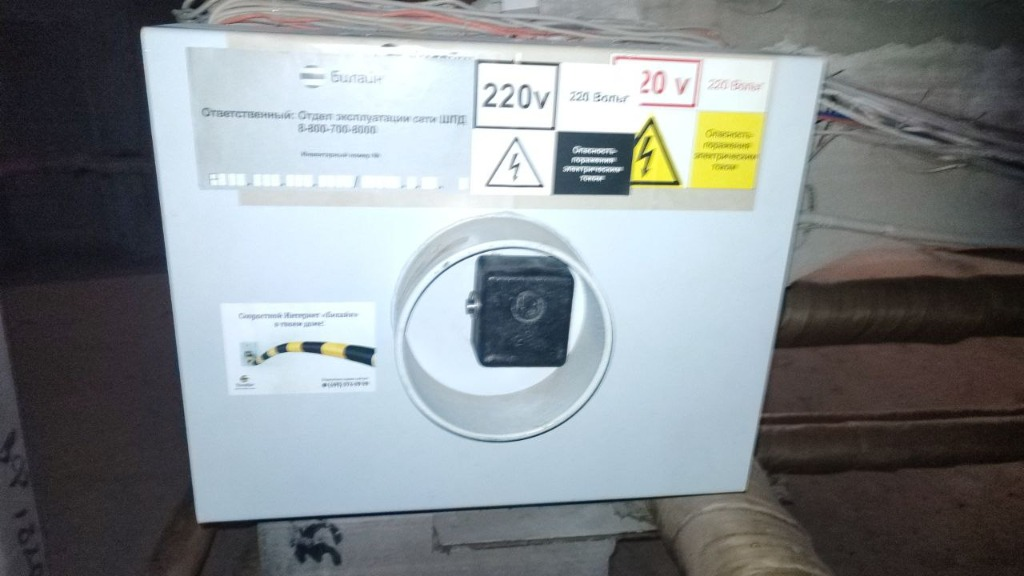shta-3: (133, 22, 831, 527)
